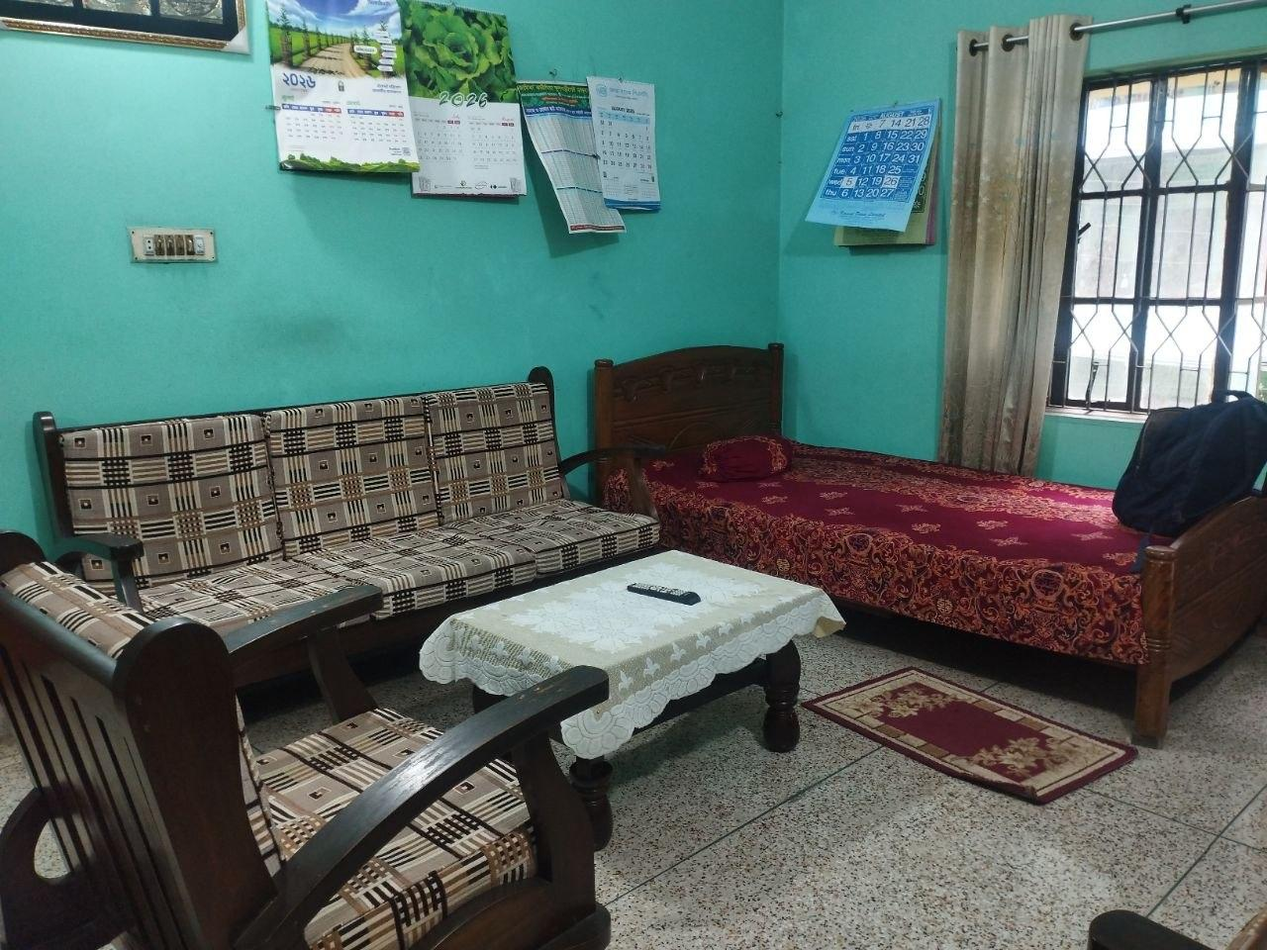Bag: (1108, 369, 1267, 559)
Floor Mat: (795, 641, 1150, 813)
Photo: (412, 535, 890, 795), (268, 0, 416, 91), (401, 4, 521, 97)
Pillow: (674, 430, 819, 486)
Remote: (615, 575, 710, 613)
Window: (1057, 46, 1267, 407)
